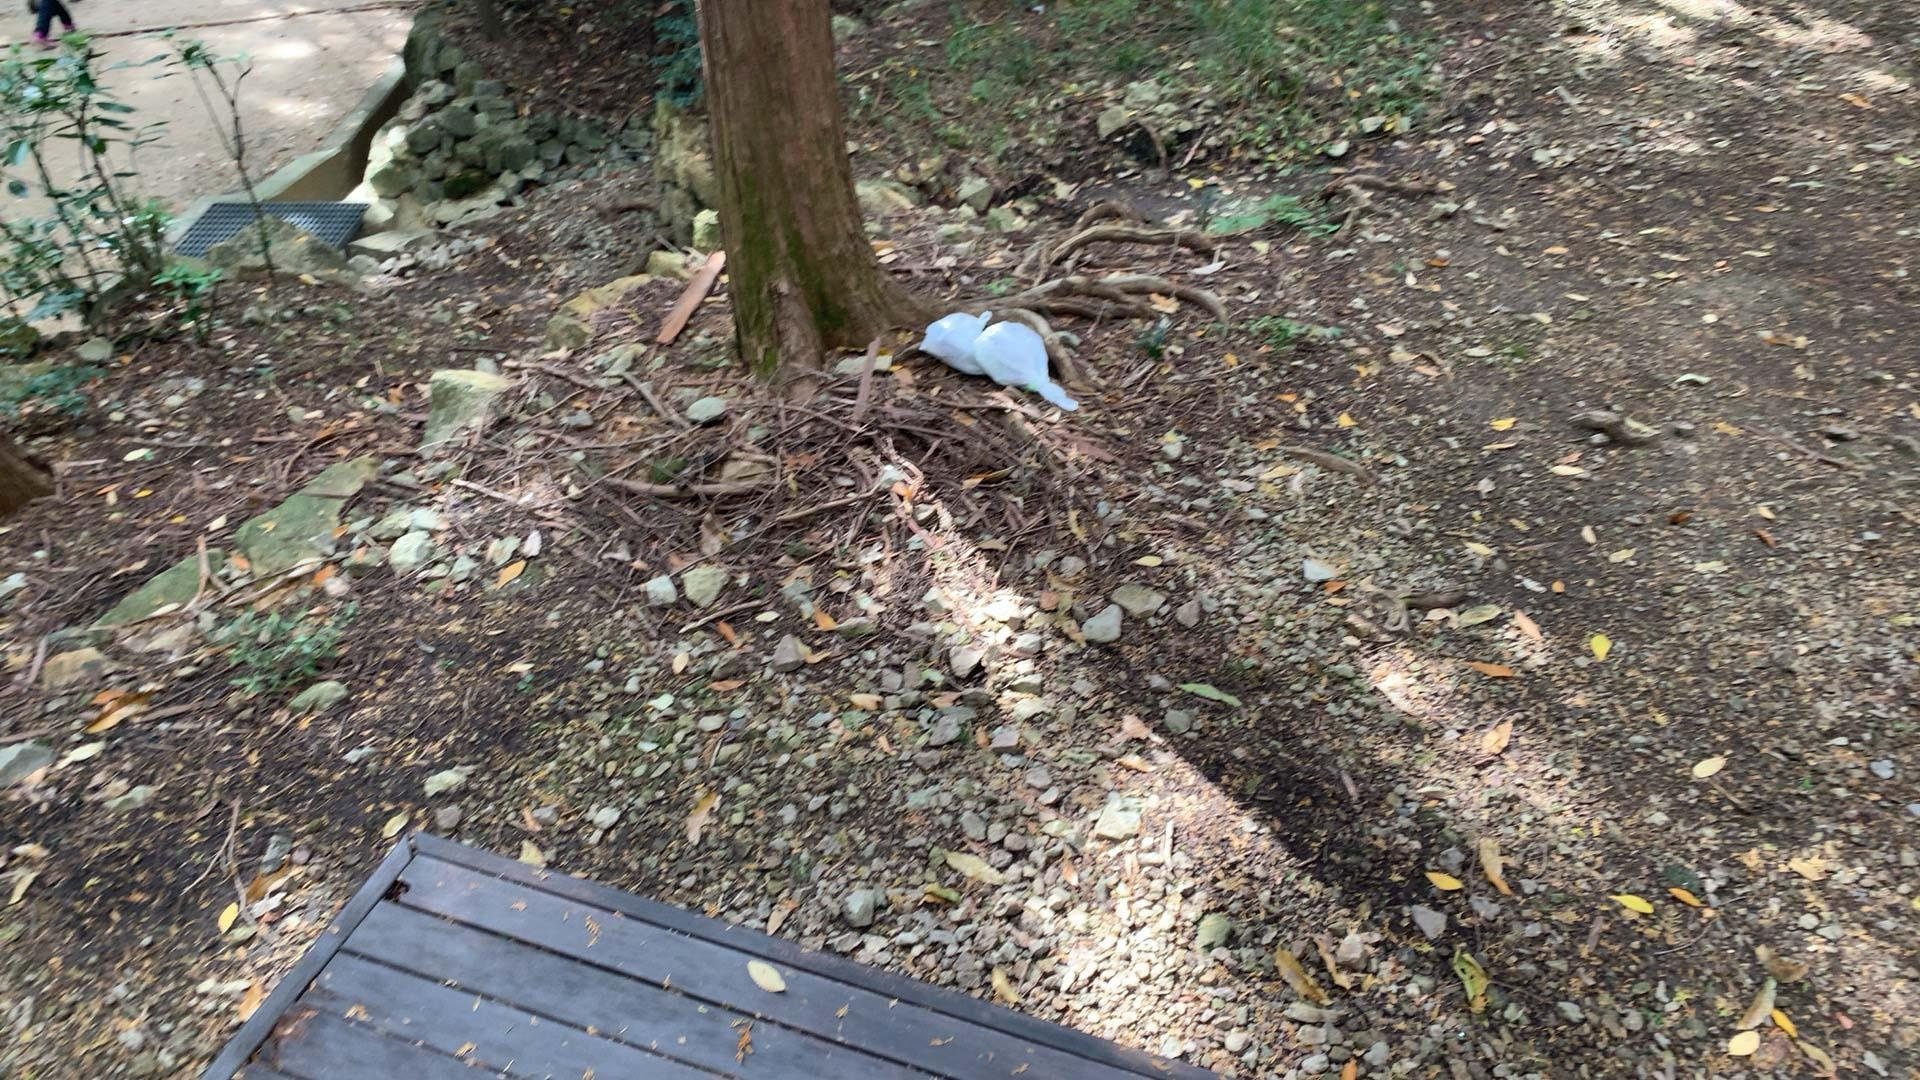white_bag: (968, 316, 1089, 419), (909, 303, 1000, 380)
